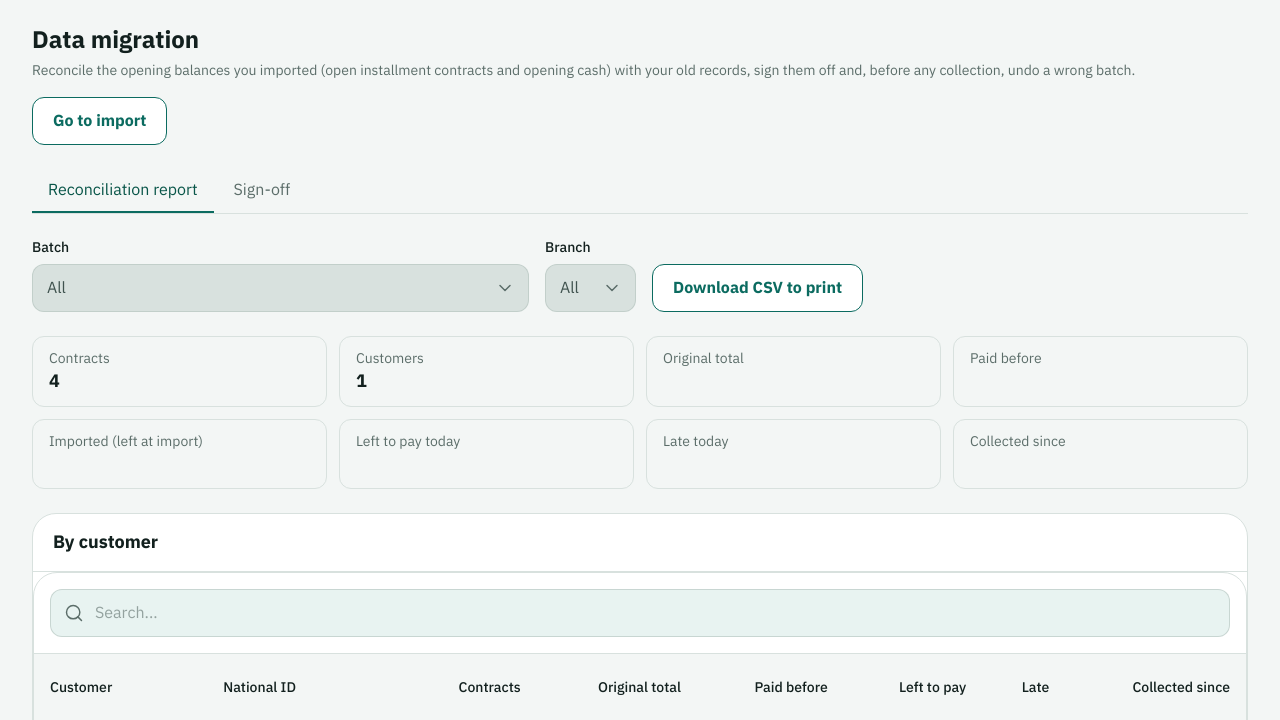
Scenario: M02 migration page › a batch that is signed or reversed cannot be picked for a sign-off
Click the tab "Sign-off". click: (262, 191)
box: [218,169,306,213]
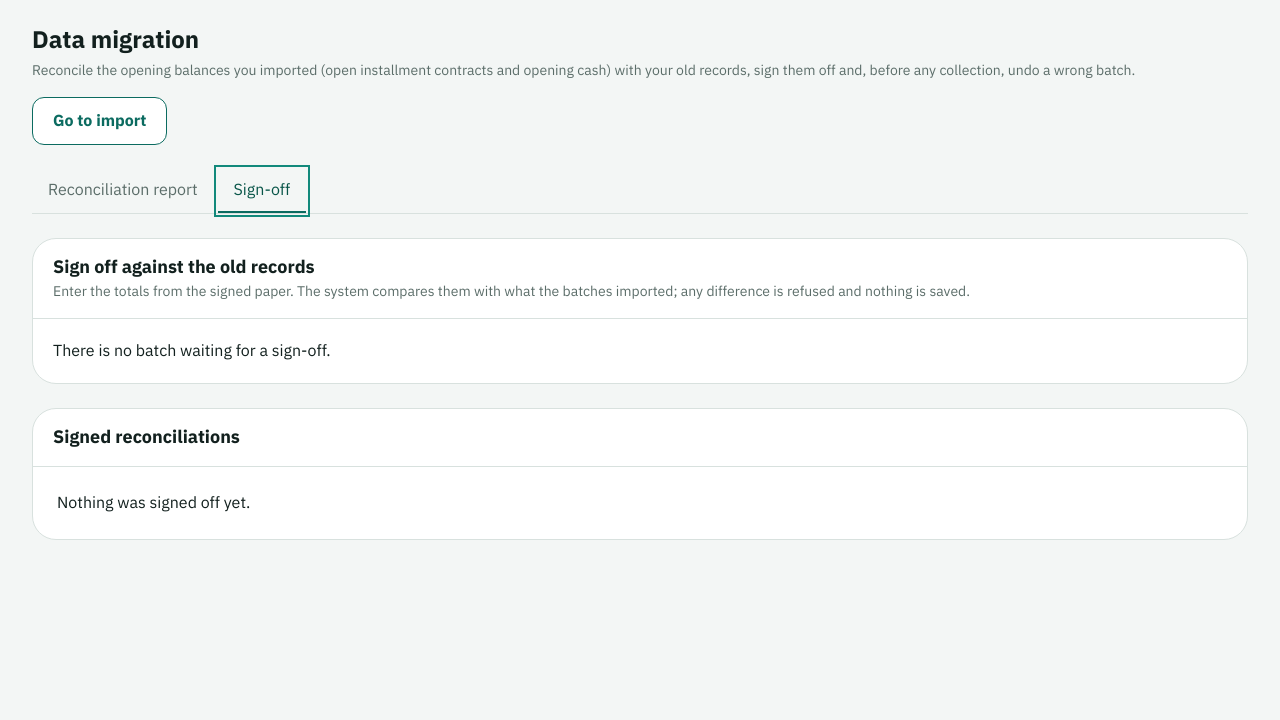
Check: the text "There is no batch waiting for a sign-off." is shown, box [53,339,331,363]
